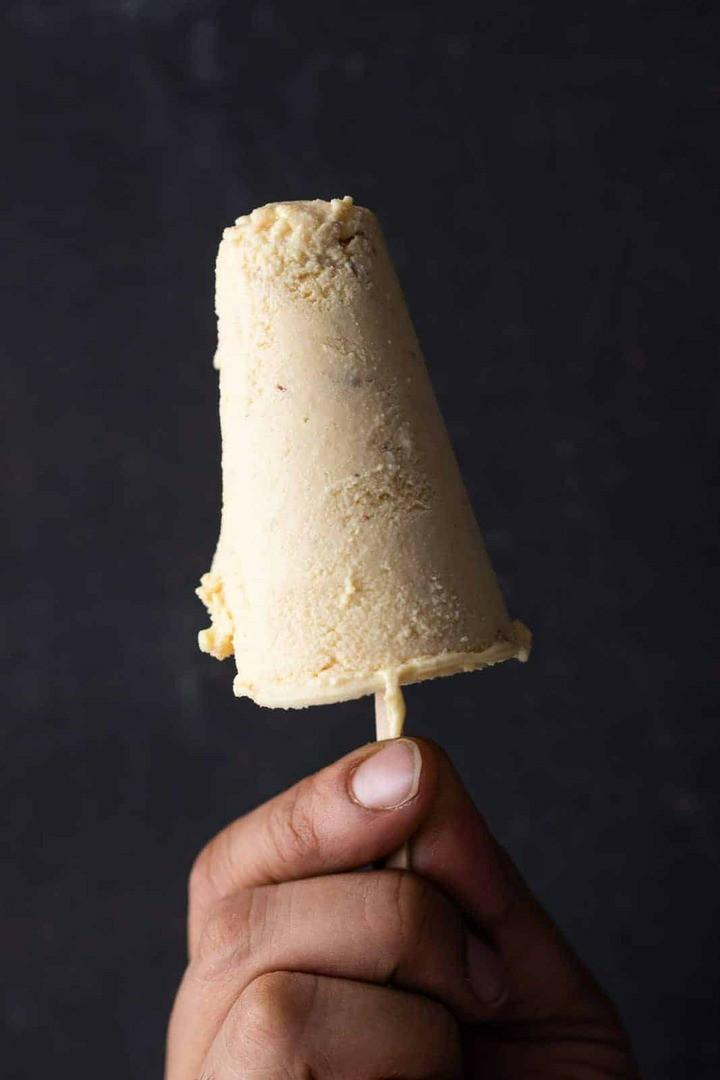Kulfi: (205, 198, 526, 713)
